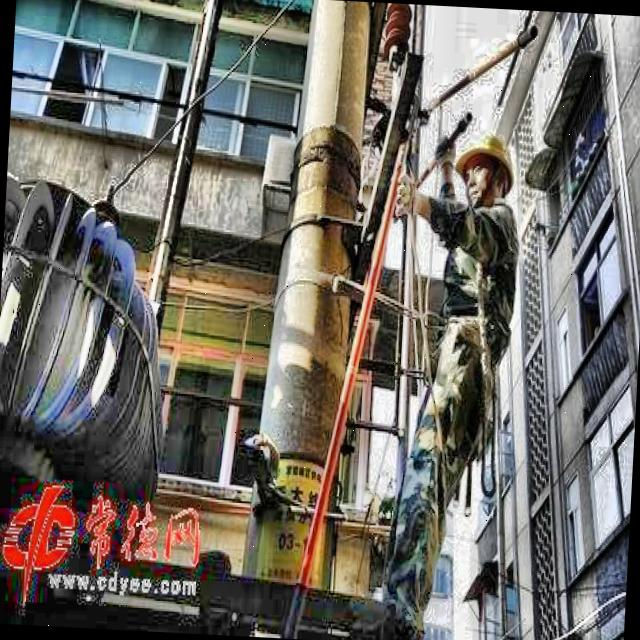helmet: (452, 132, 516, 216)
